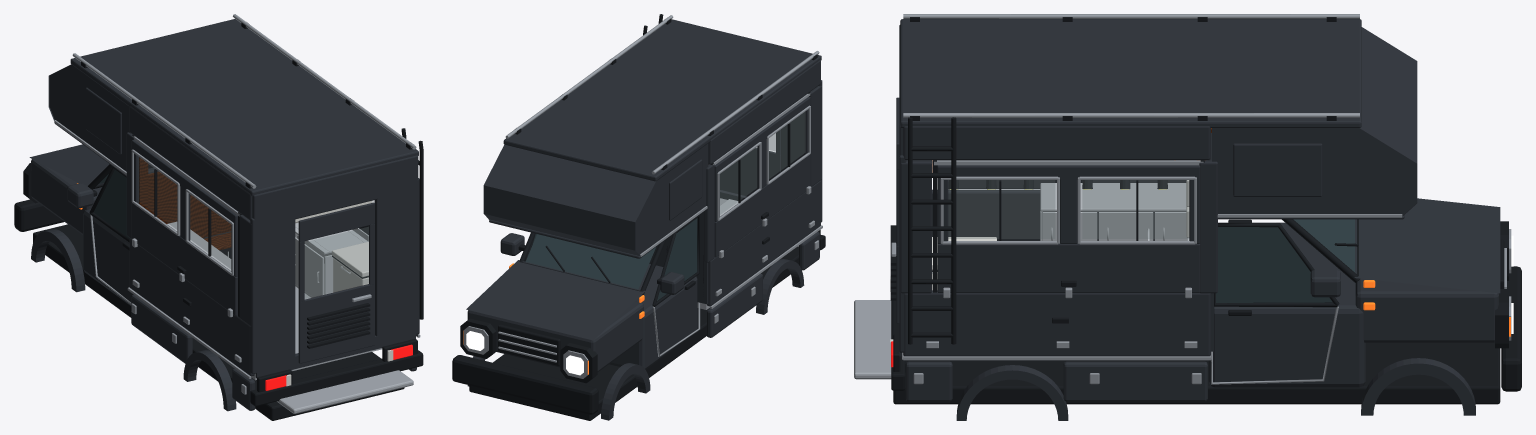
The model's file is foodtruck-body.glb.
3 renders of one model, left to right at view 1: azimuth 30°, elevation 25°; view 2: azimuth 150°, elevation 25°; view 3: azimuth 270°, elevation 25°, orthographic. The views are drawn at different scales.
Parts seen in each view (by area): view 1: Body_Body, Body_Black, OpposingHatch_Pivot_Body, RearDoor_Pivot_Body, Body_Trim, RearDoor_Glass, OpposingHatch_Pivot_Glass, Body_Steel, Body_Wood, Body_Steelchecker, RearDoor_Pivot_Black, Body_White (+3 smaller); view 2: Body_Body, Body_Black, OpposingHatch_Pivot_Body, Body_Trim, Windshield, OpposingHatch_Pivot_Glass, RearDoor_Pivot_Body, Body_Cab_glass, OpposingHatch_Pivot_Trim; view 3: Body_Body, Body_Black, ServingHatch_Pivot_Body, ServingHatch_Pivot_Glass, Body_Trim, Body_Steel, Body_Cab_glass, Body_Steelchecker, ServingHatch_Pivot_Trim, Windshield, RearDoor_Pivot_Body, OpposingHatch_Pivot_Body.
Part boxes in pixels (bbox=[...]): Body_Body: bbox=[29, 19, 419, 411]; Body_Black: bbox=[14, 22, 423, 420]; OpposingHatch_Pivot_Body: bbox=[131, 140, 237, 315]; RearDoor_Pivot_Body: bbox=[298, 202, 374, 363]; Body_Trim: bbox=[54, 14, 420, 394]; RearDoor_Glass: bbox=[305, 227, 368, 298]; OpposingHatch_Pivot_Glass: bbox=[137, 156, 230, 268]; Body_Steel: bbox=[167, 221, 368, 297]; Body_Wood: bbox=[139, 157, 231, 250]; Body_Steelchecker: bbox=[251, 286, 413, 413]; RearDoor_Pivot_Black: bbox=[307, 303, 370, 348]; Body_White: bbox=[286, 201, 393, 386]; Body_Body: bbox=[466, 19, 822, 420]; Body_Black: bbox=[452, 14, 825, 420]; OpposingHatch_Pivot_Body: bbox=[714, 96, 810, 257]; Body_Trim: bbox=[463, 15, 822, 378]; Windshield: bbox=[525, 234, 655, 289]; OpposingHatch_Pivot_Glass: bbox=[720, 112, 805, 214]; RearDoor_Pivot_Body: bbox=[720, 129, 781, 196]; Body_Cab_glass: bbox=[532, 218, 697, 300]; OpposingHatch_Pivot_Trim: bbox=[717, 105, 811, 258]; Body_Body: bbox=[899, 19, 1500, 420]; Body_Black: bbox=[891, 17, 1521, 404]; ServingHatch_Pivot_Body: bbox=[937, 165, 1200, 292]; ServingHatch_Pivot_Glass: bbox=[948, 180, 1188, 238]; Body_Trim: bbox=[903, 14, 1511, 384]; Body_Steel: bbox=[932, 183, 1189, 273]; Body_Cab_glass: bbox=[1216, 227, 1332, 302]; Body_Steelchecker: bbox=[854, 300, 1211, 379]; ServingHatch_Pivot_Trim: bbox=[940, 176, 1196, 298]; Windshield: bbox=[1293, 219, 1354, 272]; RearDoor_Pivot_Body: bbox=[896, 97, 899, 323]; OpposingHatch_Pivot_Body: bbox=[948, 160, 1196, 188].
Bounding box in the file's own units: 2.39 × 2.86 × 5.69.
Materials: 15 (1 with a texture image).
